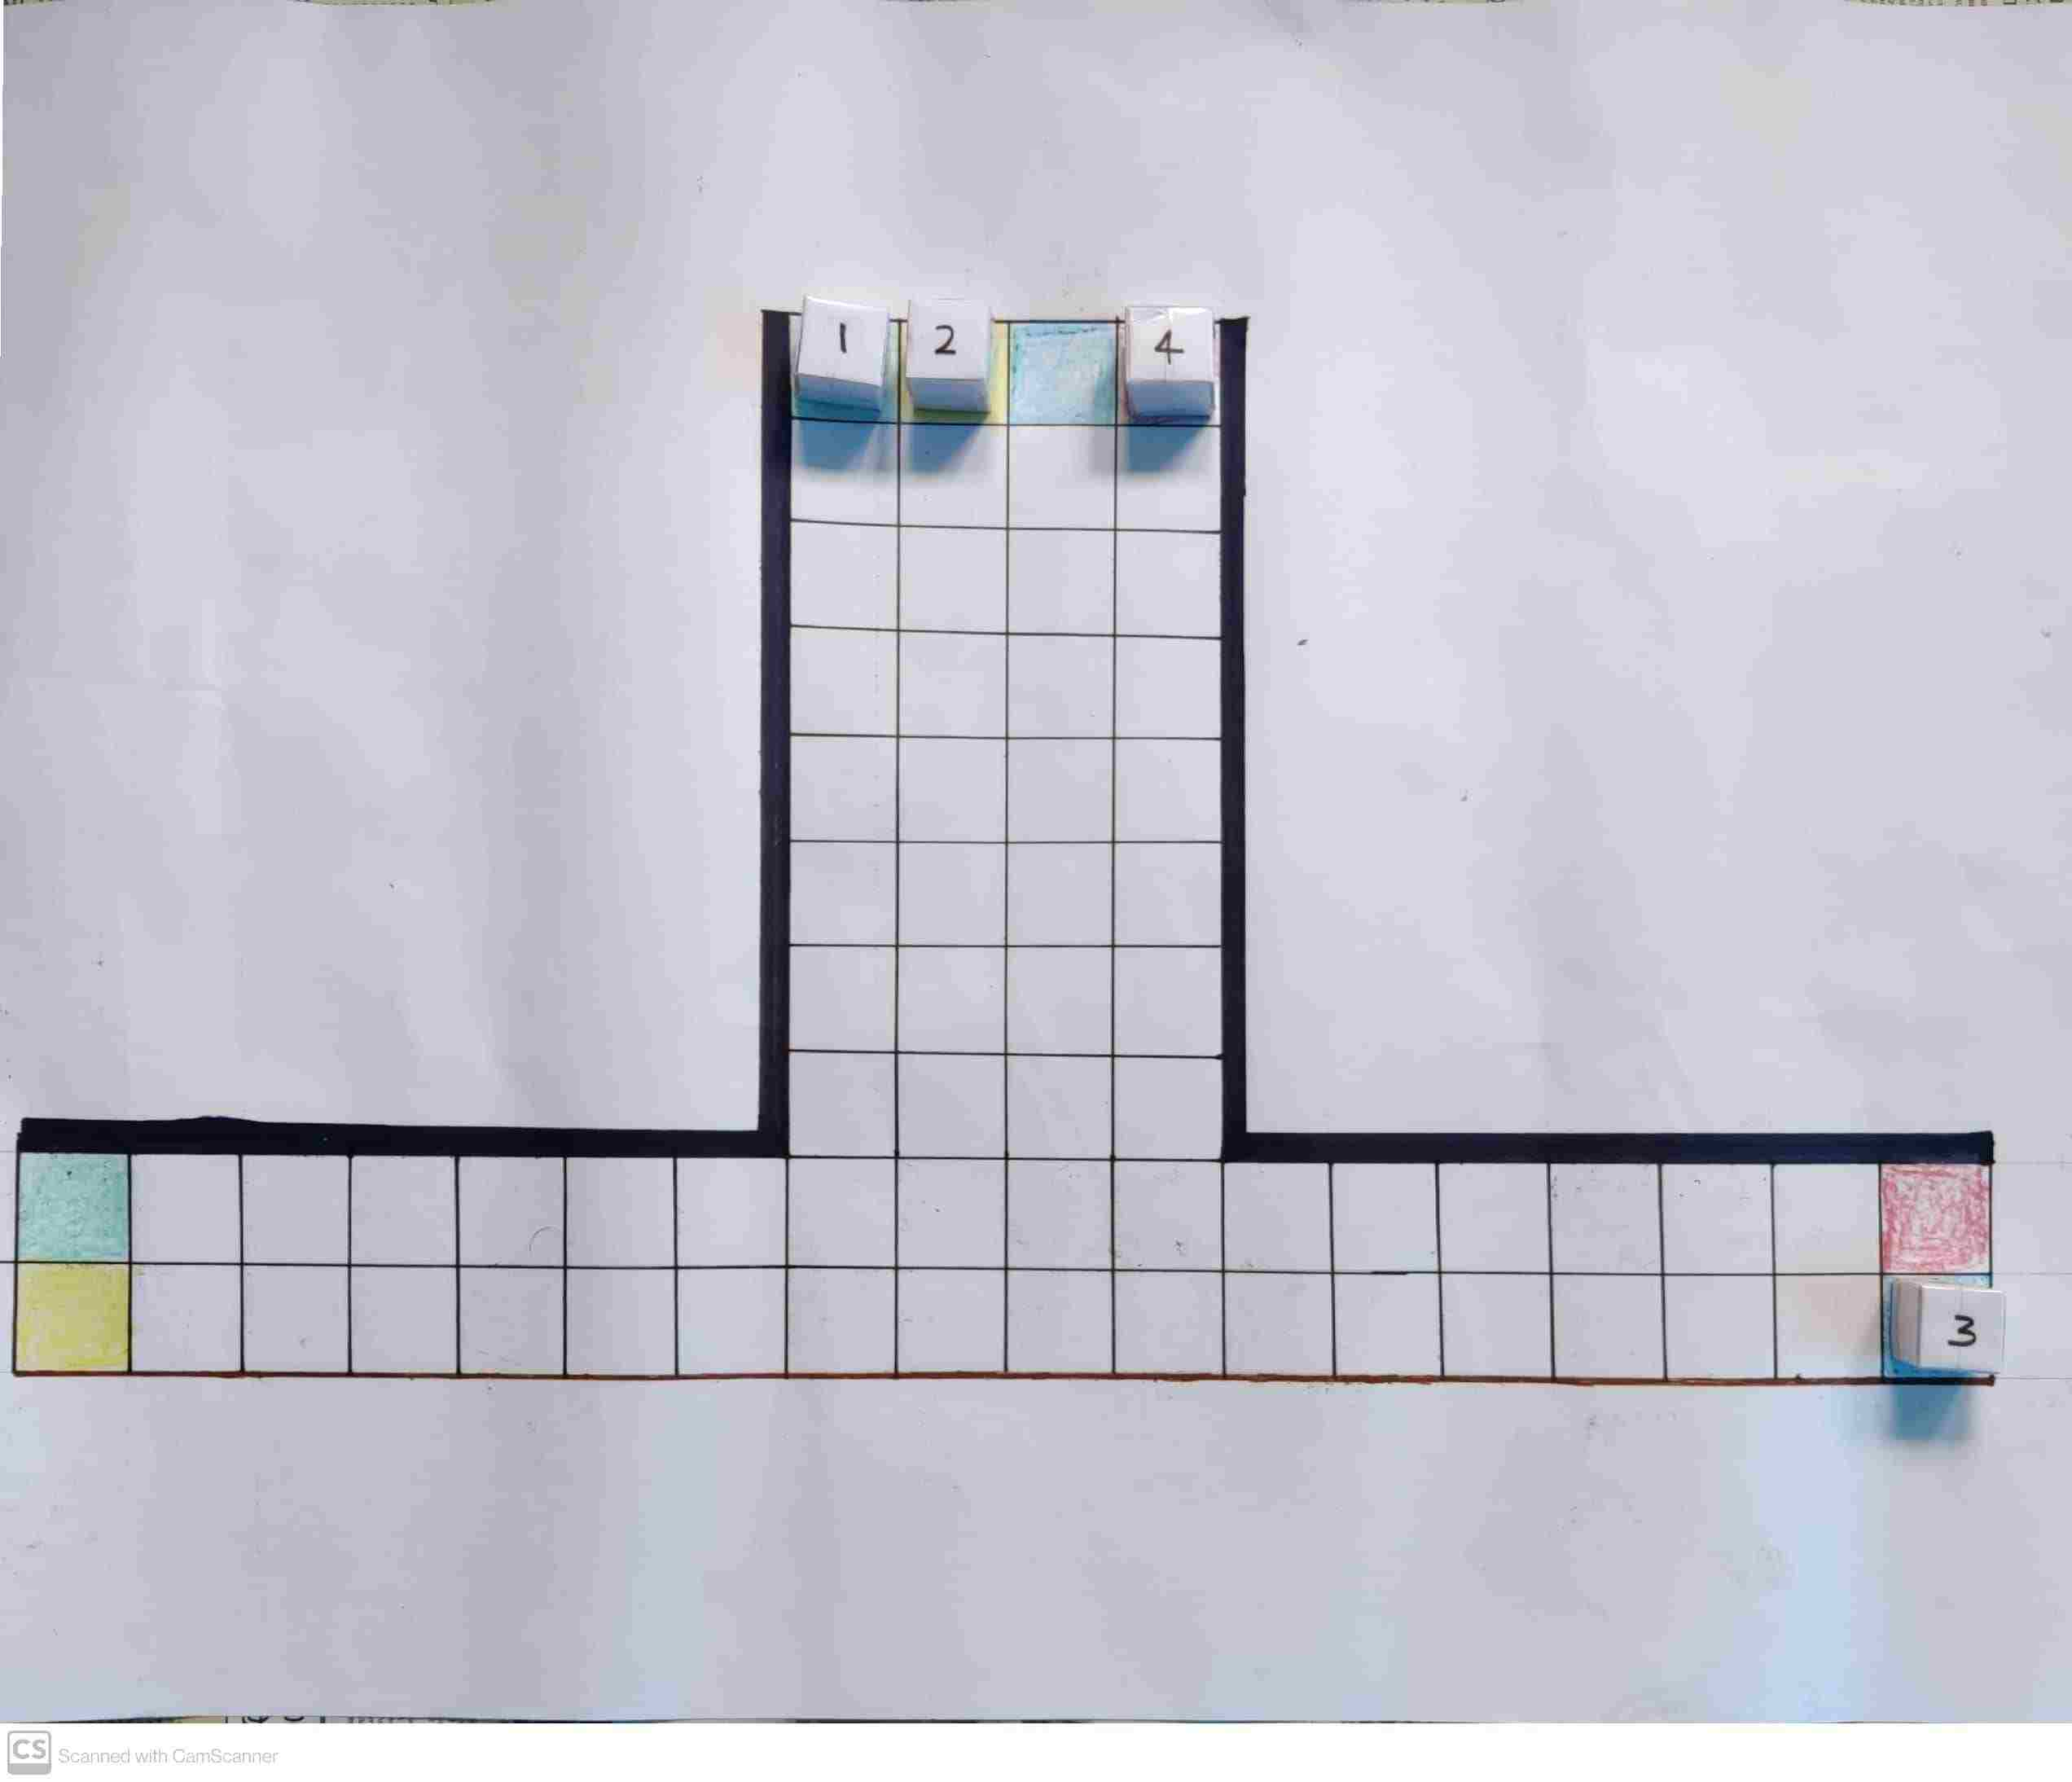arena: (12, 312, 1994, 1387)
bot: (1920, 1283, 2007, 1371), (805, 301, 888, 382), (906, 303, 988, 379), (1131, 308, 1214, 384)
